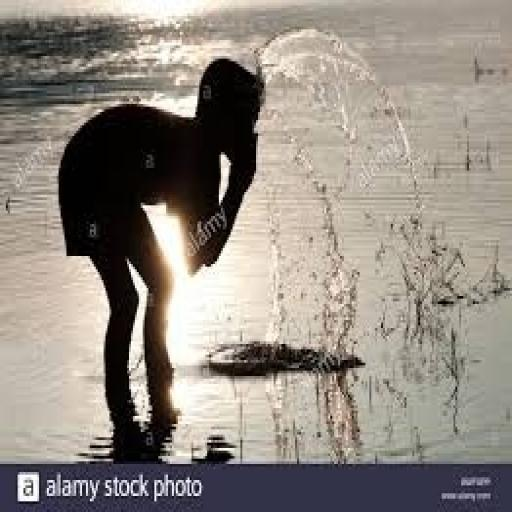drinking: (56, 53, 264, 435)
